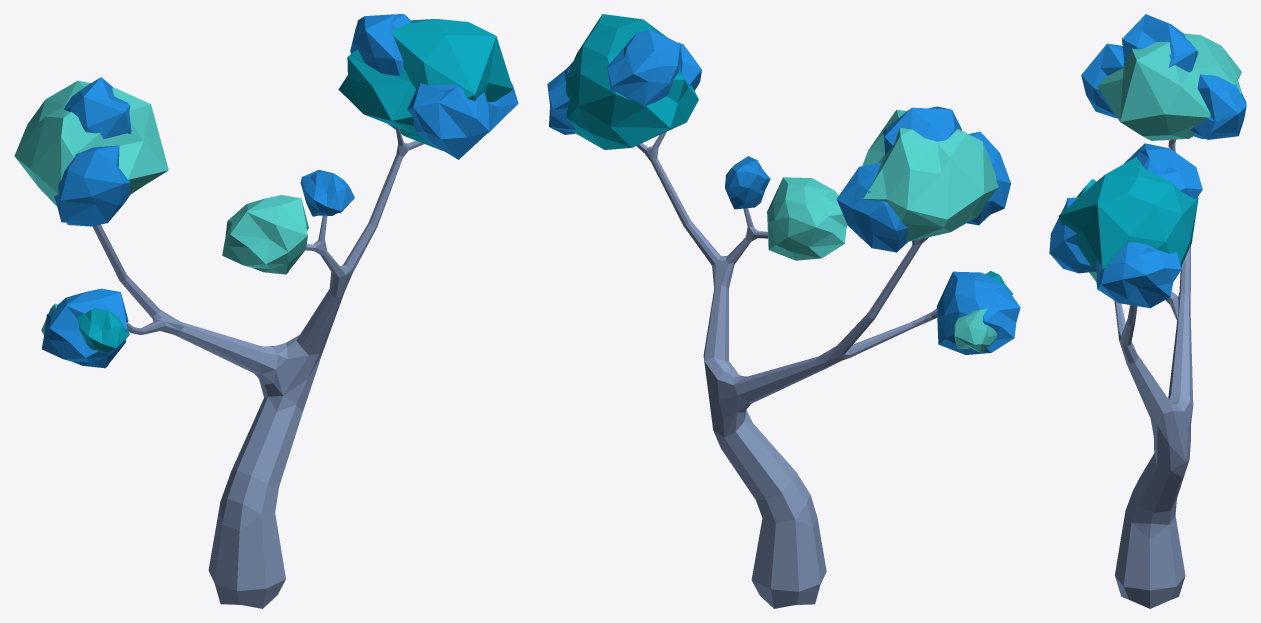
Rendered from Cherry Tree 2 ice.fbx.
The picture shows the model from 3 angles, left to right: view 1: azimuth 30°, elevation 25°; view 2: azimuth 150°, elevation 25°; view 3: azimuth 270°, elevation 25°; orthographic projection. The views are drawn at different scales.
Parts seen in each view (by area): view 1: Cube, Icosphere.007, Icosphere, Icosphere.009, Icosphere.001, Icosphere.004, Icosphere.010, Icosphere.003, Icosphere.005, Icosphere.008, Icosphere.011, Icosphere.006; view 2: Cube, Icosphere, Icosphere.007, Icosphere.009, Icosphere.010, Icosphere.005, Icosphere.002, Icosphere.003, Icosphere.008, Icosphere.012, Icosphere.001, Icosphere.006; view 3: Cube, Icosphere.007, Icosphere, Icosphere.006, Icosphere.002, Icosphere.003, Icosphere.005, Icosphere.001, Icosphere.004.
Boxes of the visible parts, box(x1,y1,x2,y2) form: Cube: box(92, 126, 423, 608); Icosphere.007: box(338, 19, 512, 150); Icosphere: box(14, 80, 168, 205); Icosphere.009: box(222, 195, 308, 274); Icosphere.001: box(54, 145, 130, 226); Icosphere.004: box(407, 83, 489, 159); Icosphere.010: box(42, 288, 128, 368); Icosphere.003: box(64, 77, 131, 139); Icosphere.005: box(350, 14, 412, 75); Icosphere.008: box(300, 170, 354, 216); Icosphere.011: box(77, 308, 129, 352); Icosphere.006: box(487, 82, 518, 133); Cube: box(636, 132, 937, 608); Icosphere: box(862, 109, 998, 241); Icosphere.007: box(566, 14, 698, 149); Icosphere.009: box(767, 177, 847, 260); Icosphere.010: box(936, 271, 1020, 354); Icosphere.005: box(607, 30, 682, 105); Icosphere.002: box(836, 162, 908, 252); Icosphere.003: box(883, 106, 961, 154); Icosphere.008: box(725, 156, 770, 209); Icosphere.012: box(954, 308, 997, 352); Icosphere.001: box(966, 131, 1010, 225); Icosphere.006: box(547, 62, 575, 134); Cube: box(1114, 139, 1193, 608); Icosphere.007: box(1058, 157, 1198, 272); Icosphere: box(1097, 33, 1241, 140); Icosphere.006: box(1096, 242, 1181, 308); Icosphere.002: box(1190, 74, 1246, 139); Icosphere.003: box(1122, 14, 1198, 72); Icosphere.005: box(1124, 143, 1202, 199); Icosphere.001: box(1081, 43, 1123, 118); Icosphere.004: box(1049, 197, 1094, 273).
Size of the model in its own units: 1098 by 1240 by 426.
